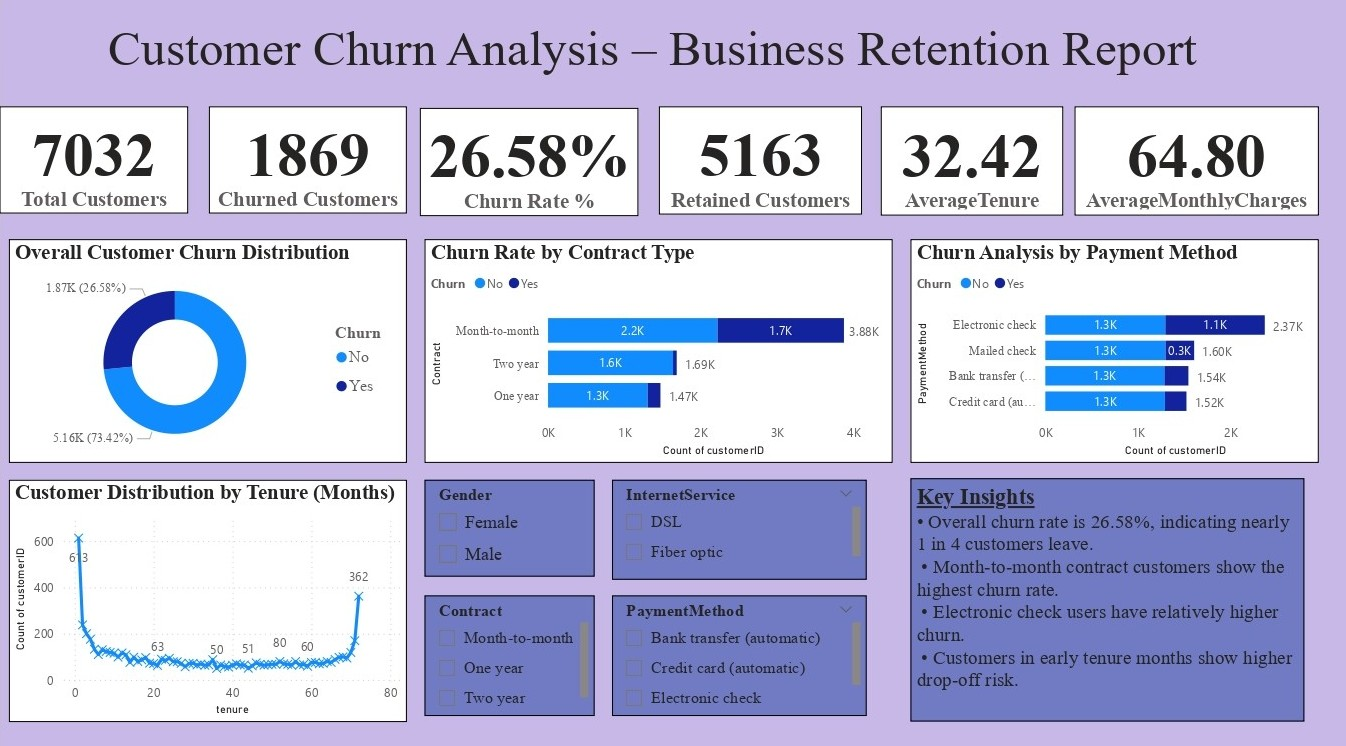

The page's visual inventory and layout, read from the dashboard file:
{"tool":"powerbi","page":{"name":"Page 1","canvas":[1280,720],"ordinal":0},"visuals":[{"type":"card","fields":{"Values":["customerchurn.Churn Rate %"]},"box":[407.6,106.1,212.1,104.5],"z":0},{"type":"card","fields":{"Values":["customerchurn.Retained Customers"]},"box":[639.7,105.1,197.4,105.1],"z":1000},{"type":"card","fields":{"Values":["customerchurn.Total Customers"]},"box":[0,105.1,183.3,103.8],"z":2000},{"type":"card","fields":{"Values":["customerchurn.AverageTenure"]},"box":[855.1,105.1,176.9,106.4],"z":3000},{"type":"card","fields":{"Values":["customerchurn.AverageMonthlyCharges"]},"box":[1042.3,105.1,237.2,106.4],"z":4000},{"type":"donutChart","title":"Overall Customer Churn Distribution","fields":{"Category":["customerchurn.Churn"],"Y":["CountNonNull(customerchurn.customerID)"]},"box":[9,233.3,385.9,216.7],"z":5000},{"type":"barChart","title":"Churn Rate by Contract Type","fields":{"Category":["customerchurn.Contract"],"Series":["customerchurn.Churn"],"Y":["CountNonNull(customerchurn.customerID)"]},"box":[412.8,233.3,453.8,216.7],"z":6000},{"type":"barChart","title":"Churn Analysis by Payment Method","fields":{"Category":["customerchurn.PaymentMethod"],"Y":["CountNonNull(customerchurn.customerID)"],"Series":["customerchurn.Churn"]},"box":[883.3,233.3,396.2,216.7],"z":7000},{"type":"lineChart","title":"Customer Distribution by Tenure (Months)","fields":{"Y":["CountNonNull(customerchurn.customerID)"],"Category":["customerchurn.tenure"]},"box":[9,466.7,385.9,234.6],"z":8000},{"type":"slicer","fields":{"Values":["customerchurn.gender"]},"box":[412.8,466.7,165.4,93.6],"z":9000},{"type":"slicer","fields":{"Values":["customerchurn.Contract"]},"box":[412.8,578.2,165.4,116.7],"z":10000},{"type":"slicer","fields":{"Values":["customerchurn.InternetService"]},"box":[593.6,466.7,247.4,97.4],"z":11000},{"type":"slicer","fields":{"Values":["customerchurn.PaymentMethod"]},"box":[593.6,578.2,247.4,116.7],"z":12000},{"type":"textbox","box":[883.3,465.2,381.8,236.4],"z":13000},{"type":"card","fields":{"Values":["customerchurn.Churned Customers"]},"box":[202.6,105.1,192.3,103.8],"z":14000},{"type":"textbox","box":[100,15.2,1089.4,75.8],"z":14001}]}

Visuals, with their boxes in screenshot pixels (x1, y1, x2, y2), scaled from the page's 1280x720 canvas onto the 1346x746 screenshot:
card - customerchurn.Churn Rate %: select_region(429, 110, 652, 218)
card - customerchurn.Retained Customers: select_region(673, 109, 880, 218)
card - customerchurn.Total Customers: select_region(0, 109, 193, 216)
card - customerchurn.AverageTenure: select_region(899, 109, 1085, 219)
card - customerchurn.AverageMonthlyCharges: select_region(1096, 109, 1345, 219)
"Overall Customer Churn Distribution" donutChart: select_region(9, 242, 415, 466)
"Churn Rate by Contract Type" barChart: select_region(434, 242, 911, 466)
"Churn Analysis by Payment Method" barChart: select_region(929, 242, 1345, 466)
"Customer Distribution by Tenure (Months)" lineChart: select_region(9, 484, 415, 727)
slicer - customerchurn.gender: select_region(434, 484, 608, 581)
slicer - customerchurn.Contract: select_region(434, 599, 608, 720)
slicer - customerchurn.InternetService: select_region(624, 484, 884, 584)
slicer - customerchurn.PaymentMethod: select_region(624, 599, 884, 720)
textbox: select_region(929, 482, 1330, 727)
card - customerchurn.Churned Customers: select_region(213, 109, 415, 216)
textbox: select_region(105, 16, 1251, 94)
